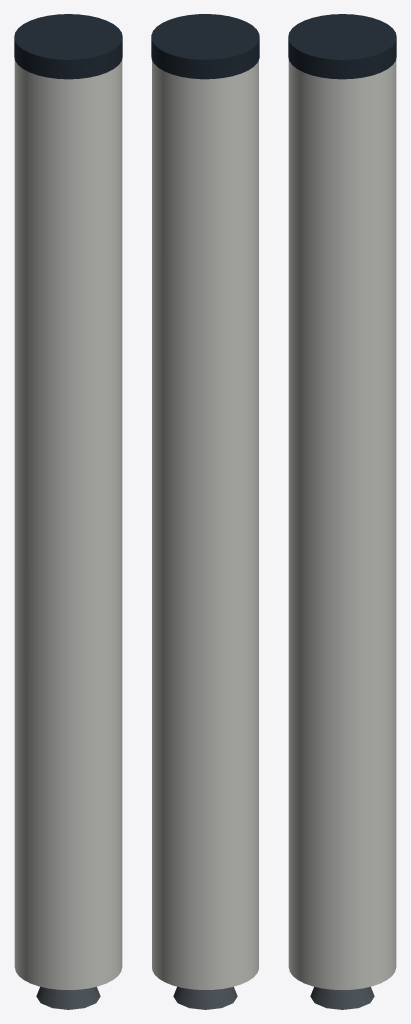
The model's file is blackbrant-stage-1.glb.
3 renders of one model, left to right at view 1: azimuth 90°, elevation 25°; view 2: azimuth 210°, elevation 25°; view 3: azimuth 270°, elevation 25°, orthographic.
Parts seen in each view (by area): view 1: body-0, interstage-0, engine-0-0; view 2: body-0, interstage-0, engine-0-0; view 3: body-0, interstage-0, engine-0-0.
Part boxes in pixels (x1,y1,x2,y2): body-0: (14,59,122,990); interstage-0: (14,14,122,79); engine-0-0: (36,986,100,1009); body-0: (152,60,258,989); interstage-0: (151,14,259,79); engine-0-0: (173,986,237,1009); body-0: (288,59,396,990); interstage-0: (288,14,396,79); engine-0-0: (310,986,374,1009).
Bounding box in the file's own units: 0.4433 × 4.32 × 0.4433.
